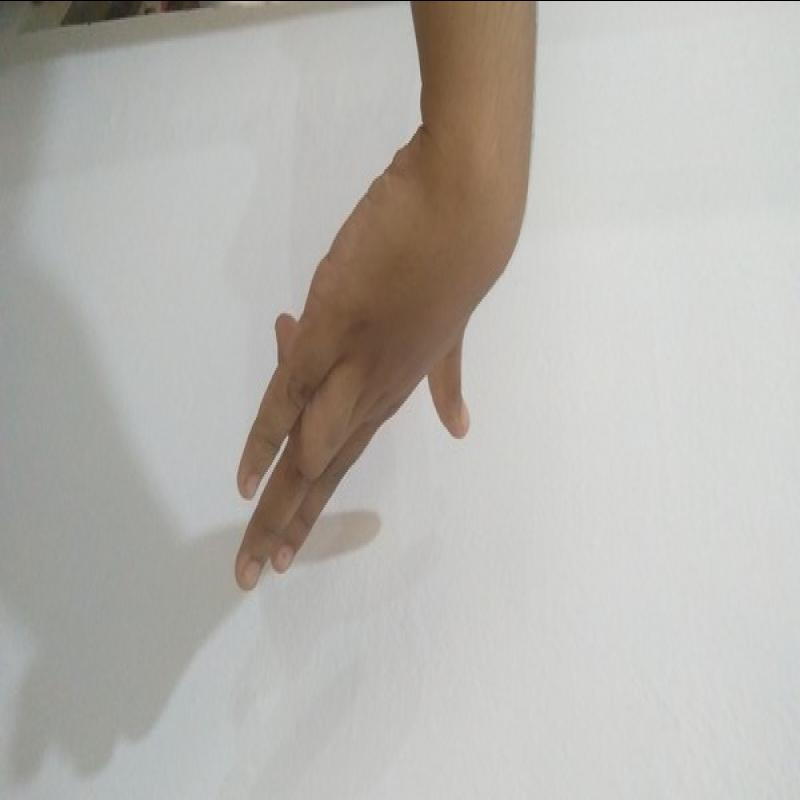Pathaaka: (222, 120, 539, 615)
